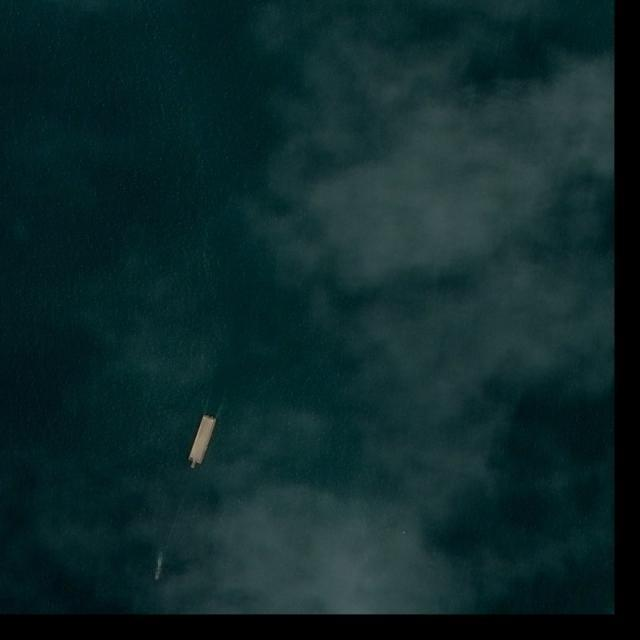ship: (185, 414, 218, 471), (154, 568, 162, 581)
